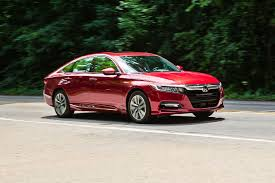Honda: (40, 48, 225, 124)
